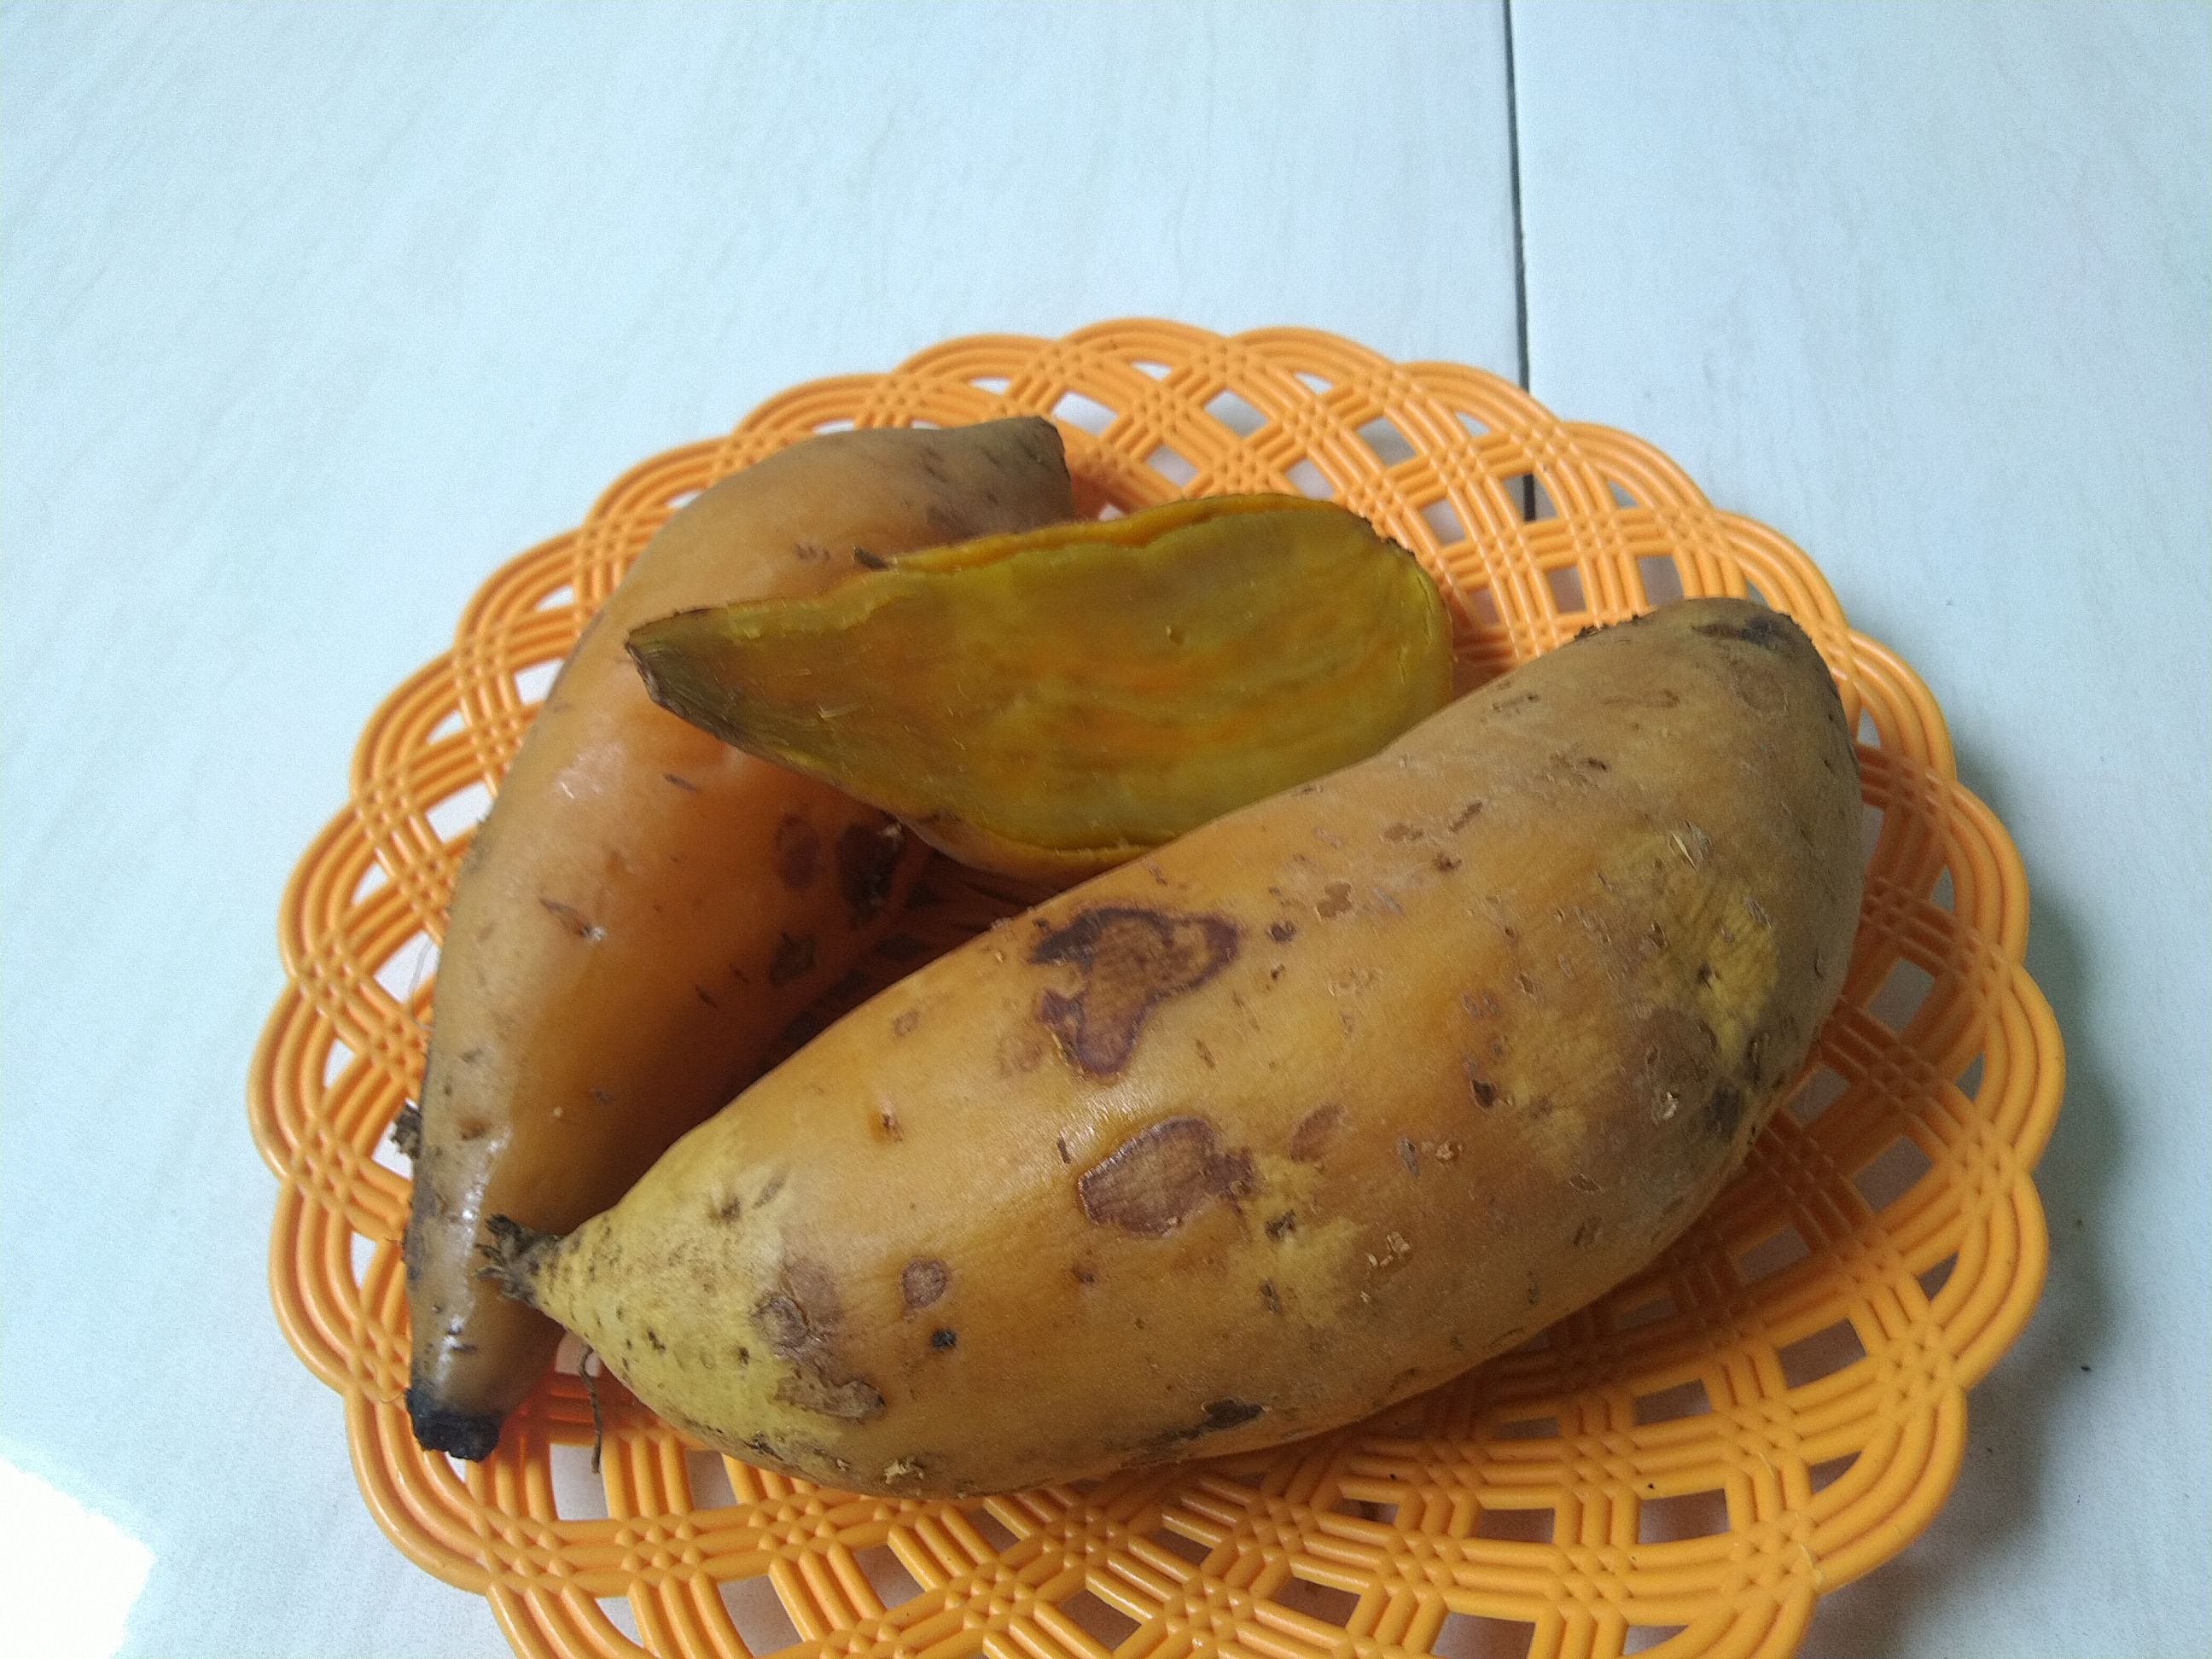ubi cilembu: (345, 373, 1895, 1525), (500, 596, 1935, 1513), (388, 394, 1054, 1480), (617, 484, 1489, 878)
